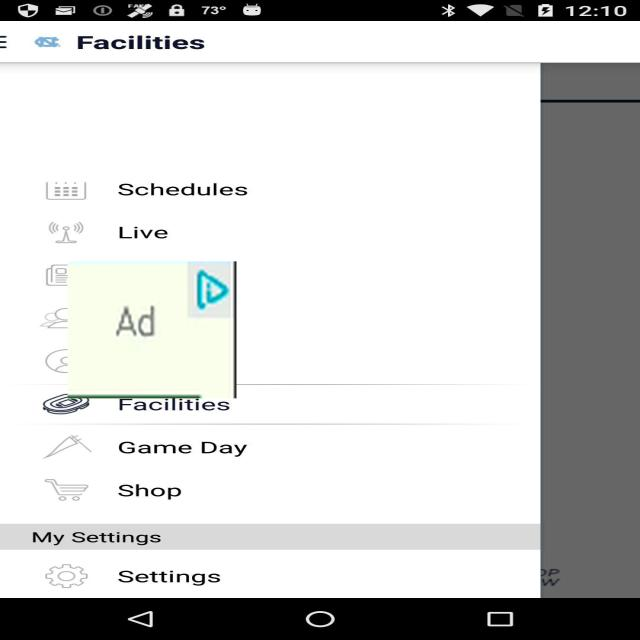sneaking: (68, 262, 236, 398)
